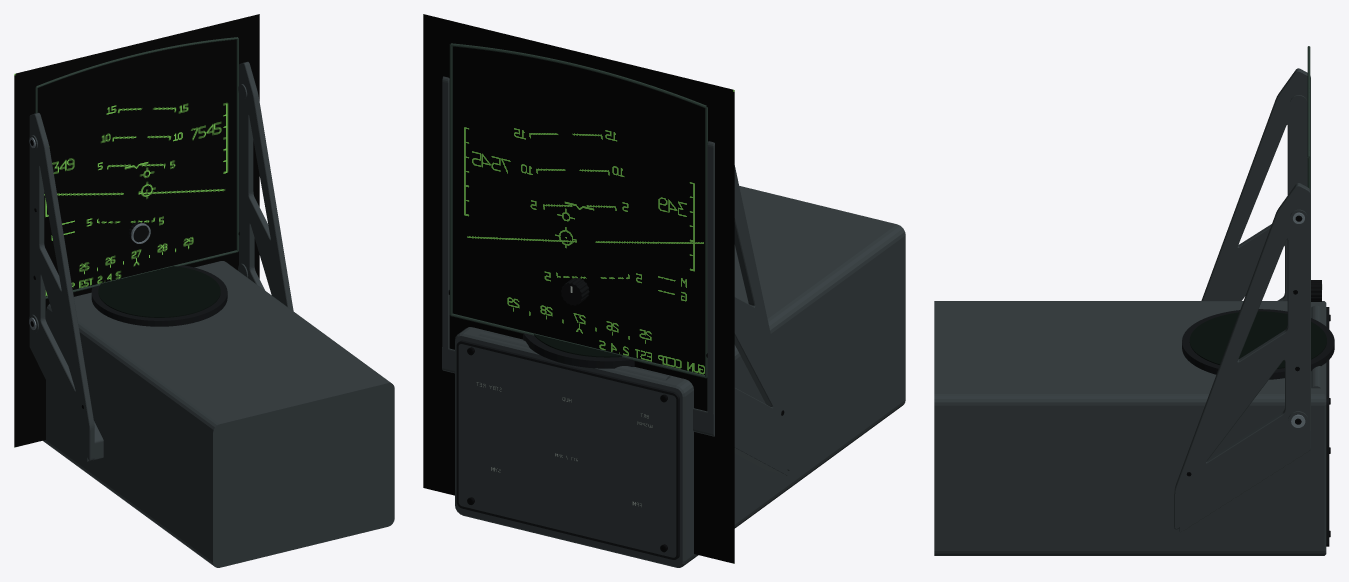
File: MFDStudio.obj
3 views of the same model, side by side, from view 1: azimuth 30°, elevation 25°; view 2: azimuth 150°, elevation 25°; view 3: azimuth 270°, elevation 25° (orthographic). The views are drawn at different scales.
Parts seen in each view (by area): view 1: MFDStudioBody, MFDStudioScreen, MFDStudioCombinerFrame; view 2: MFDStudioScreen, MFDStudioBody, MFDStudioCombinerFrame, MFDStudioKnob0; view 3: MFDStudioBody, MFDStudioCombinerFrame.
Part boxes in pixels (left/top/right/bottom): MFDStudioBody: left=43, top=261, right=394, bottom=567; MFDStudioScreen: left=14, top=14, right=259, bottom=447; MFDStudioCombinerFrame: left=29, top=37, right=293, bottom=461; MFDStudioScreen: left=423, top=14, right=734, bottom=563; MFDStudioBody: left=455, top=186, right=905, bottom=567; MFDStudioCombinerFrame: left=442, top=43, right=790, bottom=475; MFDStudioKnob0: left=561, top=277, right=589, bottom=305; MFDStudioBody: left=934, top=301, right=1334, bottom=555; MFDStudioCombinerFrame: left=1174, top=46, right=1310, bottom=532.
Bounding box in the file's own units: 0.22 × 0.3264 × 0.2769.
Materials: 11 (1 with a texture image).
